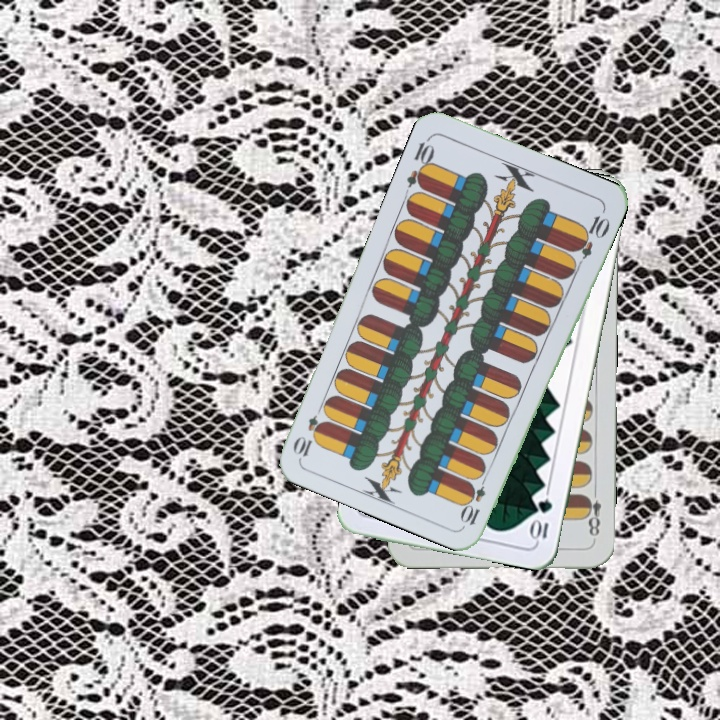E10: (402, 133, 438, 192), (458, 470, 490, 528)
E8: (580, 484, 604, 543)
G10: (528, 494, 555, 544)
